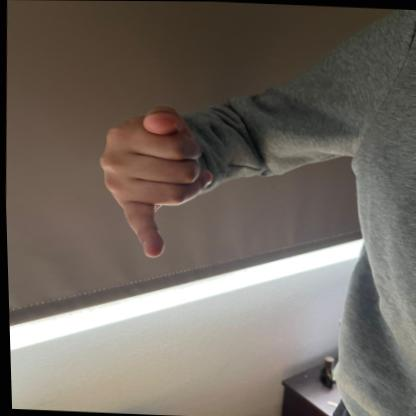Z: (88, 100, 215, 260)
